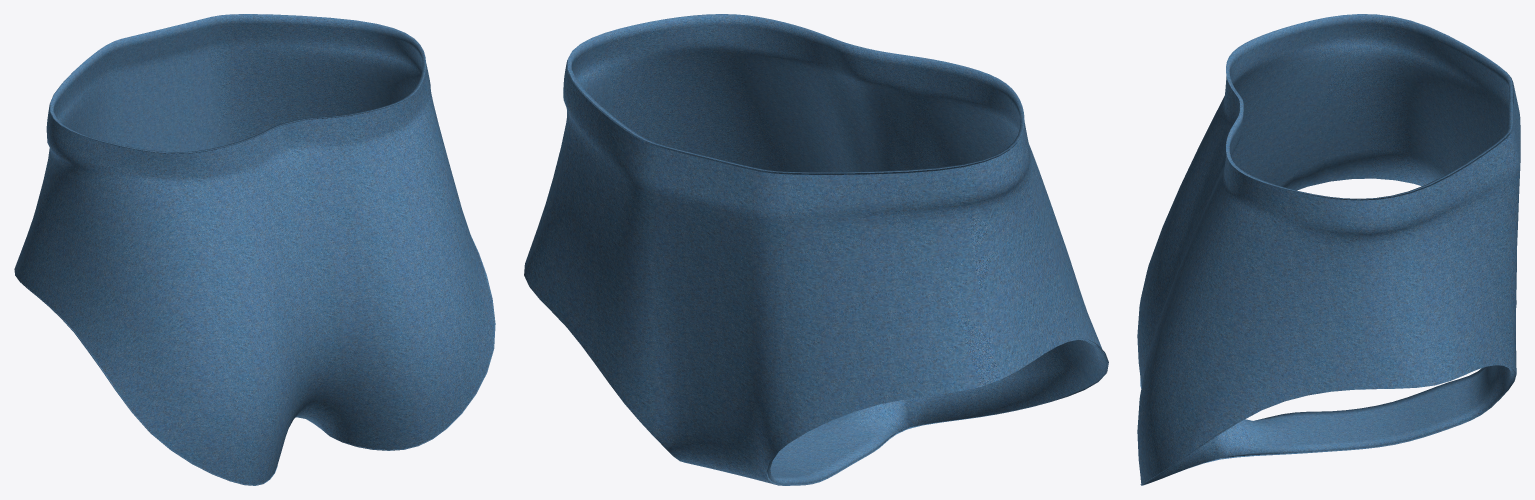
Rendered from underwear.fbx.
The picture shows the model from 3 angles, left to right: view 1: azimuth 30°, elevation 25°; view 2: azimuth 150°, elevation 25°; view 3: azimuth 270°, elevation 25°; orthographic projection. The views are drawn at different scales.
Parts seen in each view (by area): view 1: underwear_outside, underwear_inside; view 2: underwear_outside, underwear_inside; view 3: underwear_outside, underwear_inside.
Part boxes in pixels (x1,y1,x2,y2): underwear_outside: (14, 63, 494, 485); underwear_inside: (21, 14, 495, 485); underwear_outside: (524, 60, 1108, 485); underwear_inside: (567, 14, 1108, 484); underwear_outside: (1137, 72, 1520, 485); underwear_inside: (1140, 14, 1515, 484).
Bounding box in the file's own units: 1.55 × 1.17 × 1.18.
1 material, 1 textured.
